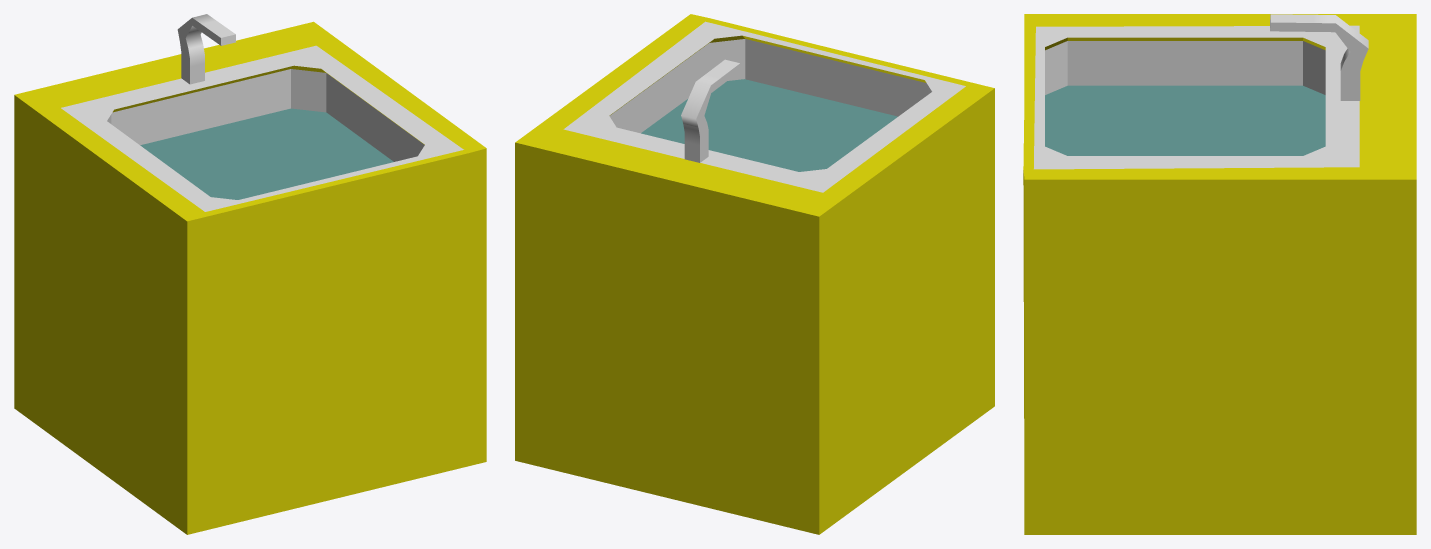
File: Sink.fbx
3 views of the same model, side by side, from view 1: azimuth 30°, elevation 25°; view 2: azimuth 150°, elevation 25°; view 3: azimuth 270°, elevation 25° (orthographic). The views are drawn at different scales.
Visible parts, largest first — view 1: polySurface8; view 2: polySurface8; view 3: polySurface8.
Part boxes in pixels (x1,y1,x2,y2): polySurface8: [14, 14, 486, 534]; polySurface8: [515, 14, 994, 534]; polySurface8: [1023, 14, 1416, 534].
Size of the model in its own units: 2 by 2.44 by 2.01.
